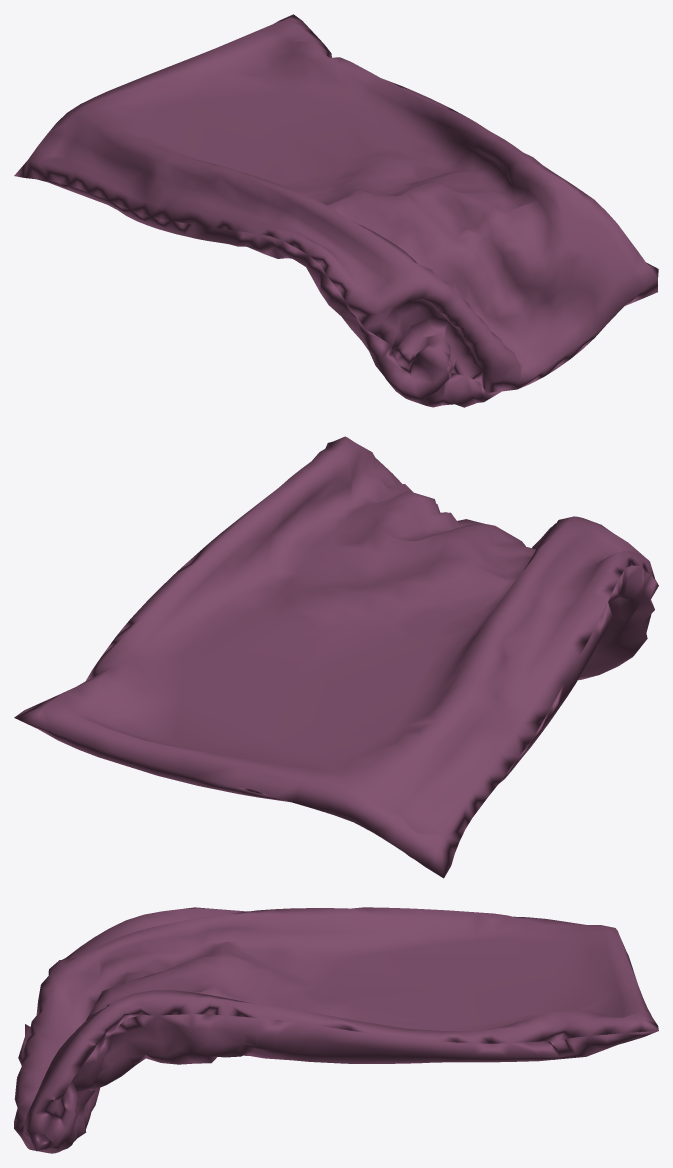
File: BedB_SheetBottom_B.FBX
3 renders of one model, top to bottom at view 1: azimuth 30°, elevation 25°; view 2: azimuth 150°, elevation 25°; view 3: azimuth 270°, elevation 25°, orthographic. The views are drawn at different scales.
Visible parts, largest first — view 1: Object011; view 2: Object011; view 3: Object011.
Boxes of the visible parts, box(x1,y1,x2,y2) form: Object011: box(14, 14, 658, 407); Object011: box(14, 436, 658, 878); Object011: box(14, 907, 658, 1153).
Size of the model in its own units: 38.73 by 17.95 by 53.68.
